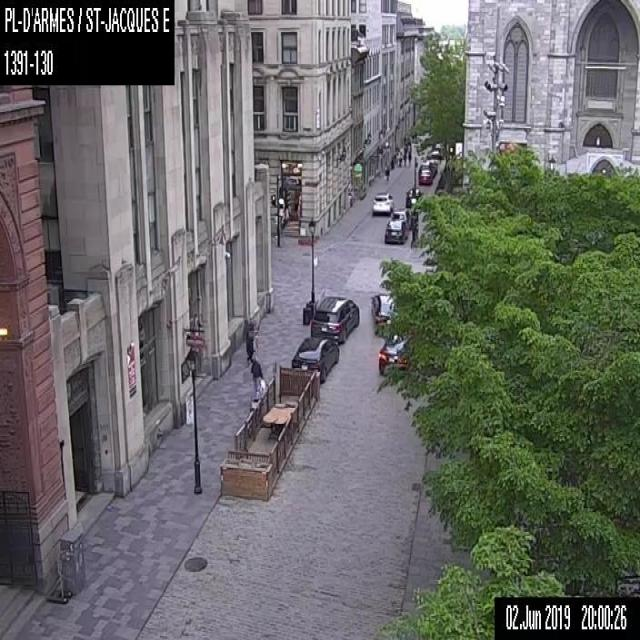pedestrian: (241, 317, 257, 366), (250, 356, 263, 395), (402, 148, 407, 165), (407, 148, 411, 164), (384, 166, 388, 180)
vehicle: (310, 295, 358, 343), (290, 336, 338, 382), (377, 334, 409, 375), (370, 291, 396, 336), (383, 218, 407, 244), (390, 207, 411, 229), (372, 192, 392, 214), (404, 186, 422, 207), (418, 162, 434, 178), (418, 168, 432, 184)
